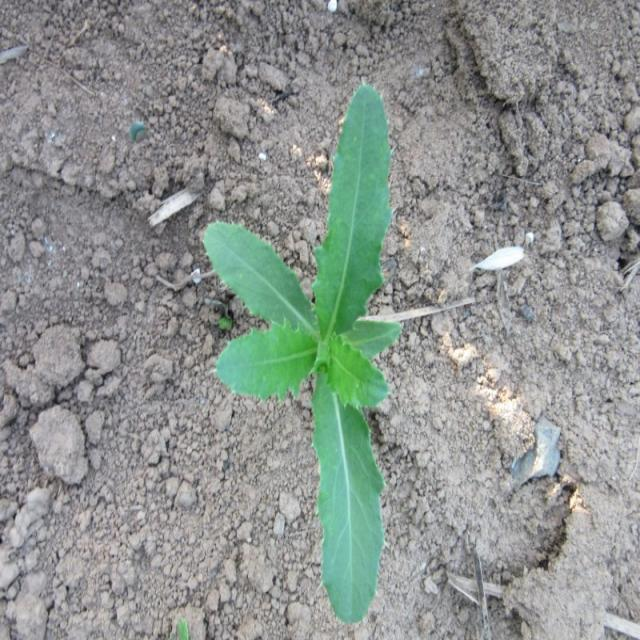cs: (202, 85, 405, 624)
